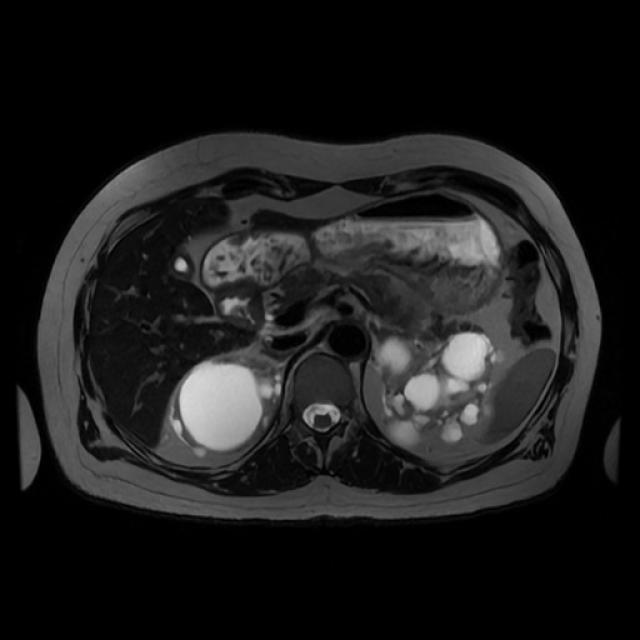sag: (175, 354, 284, 457)
sol: (376, 334, 499, 443)
